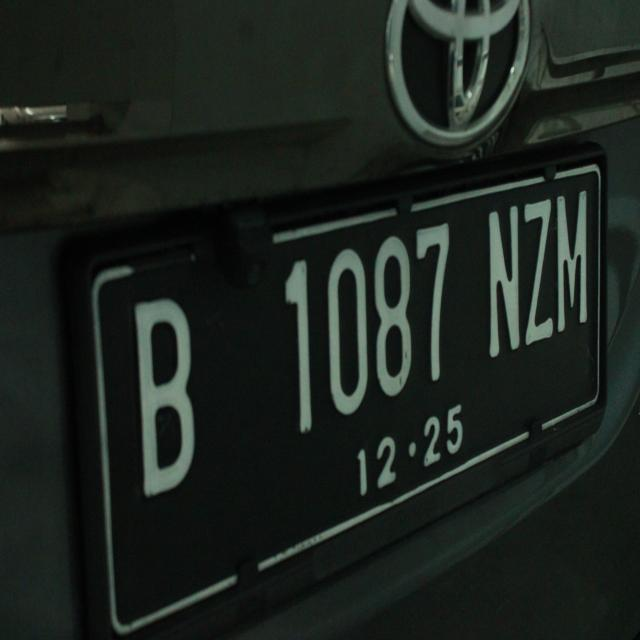0: (324, 245, 374, 418)
1: (274, 253, 322, 447)
7: (408, 214, 452, 372)
8: (366, 226, 418, 399)
B: (119, 288, 209, 506)
M: (552, 188, 596, 336)
N: (471, 194, 527, 352)
Z: (520, 198, 562, 346)
